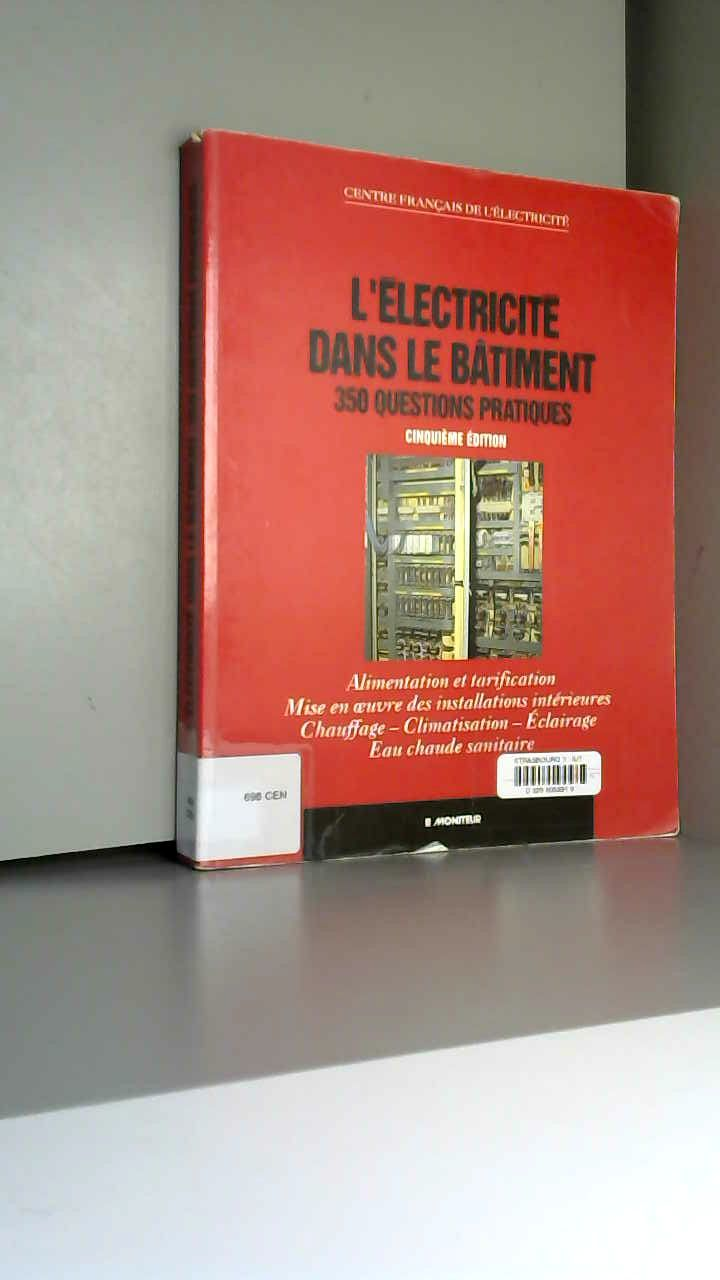book: (140, 100, 715, 926)
